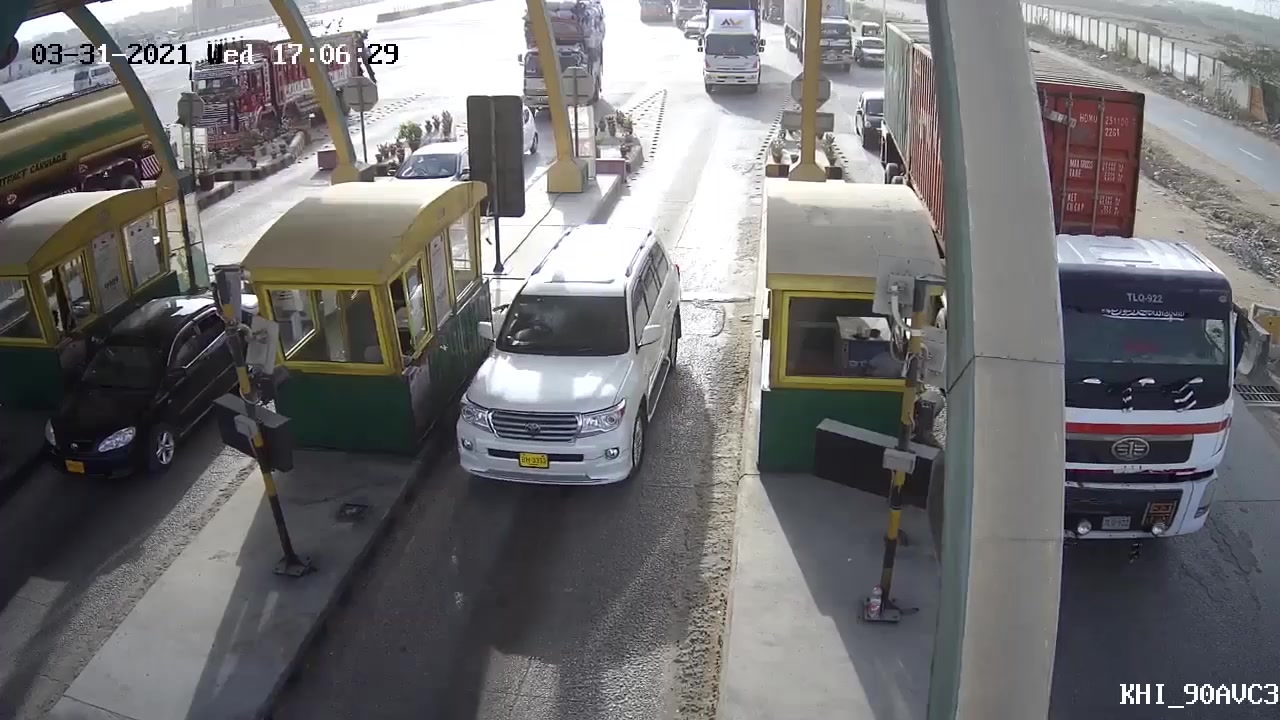F1: (444, 220, 689, 505)
